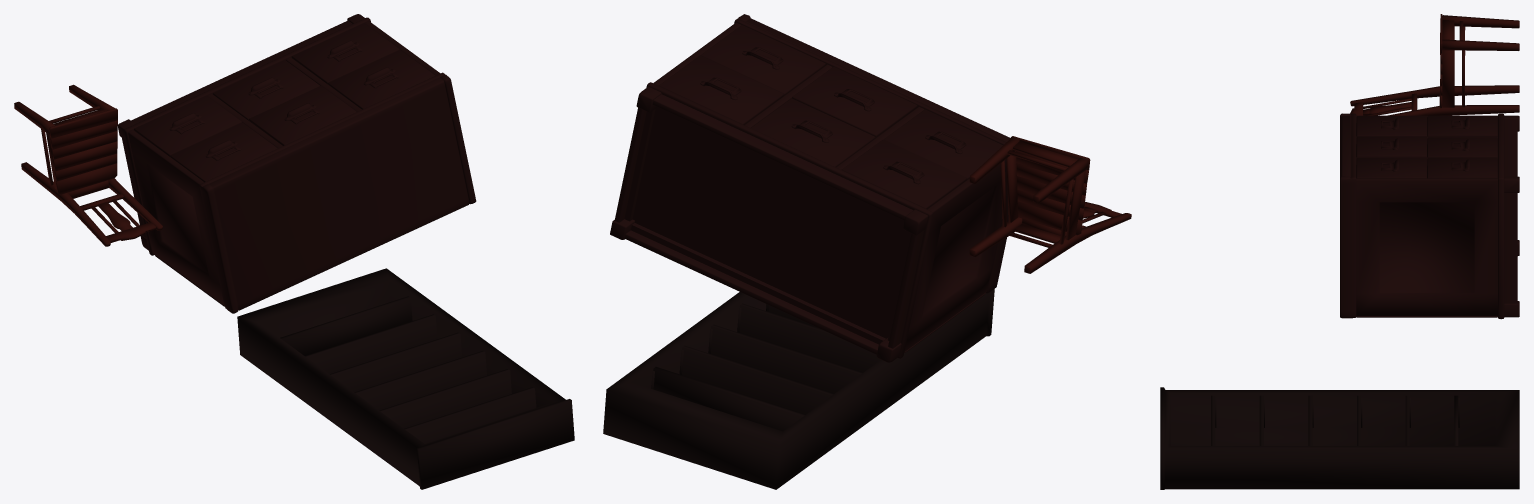
The model's file is scene_0008_diffuse.obj.
3 views of the same model, side by side, from view 1: azimuth 30°, elevation 25°; view 2: azimuth 150°, elevation 25°; view 3: azimuth 270°, elevation 25° (orthographic). The views are drawn at different scales.
Visible parts, largest first — view 1: diffuse_cabinet_01, diffuse_shelf_02, diffuse_chair_03; view 2: diffuse_cabinet_01, diffuse_shelf_02, diffuse_chair_03; view 3: diffuse_cabinet_01, diffuse_shelf_02, diffuse_chair_03.
Part boxes in pixels (x1,y1,x2,y2): diffuse_cabinet_01: [118, 14, 476, 313]; diffuse_shelf_02: [237, 268, 574, 489]; diffuse_chair_03: [14, 84, 162, 246]; diffuse_cabinet_01: [610, 14, 1010, 362]; diffuse_shelf_02: [603, 289, 994, 489]; diffuse_chair_03: [969, 136, 1131, 273]; diffuse_cabinet_01: [1340, 113, 1519, 319]; diffuse_shelf_02: [1160, 387, 1519, 489]; diffuse_chair_03: [1350, 14, 1519, 115].
Bounding box in the file's own units: 227 × 179 × 189.
